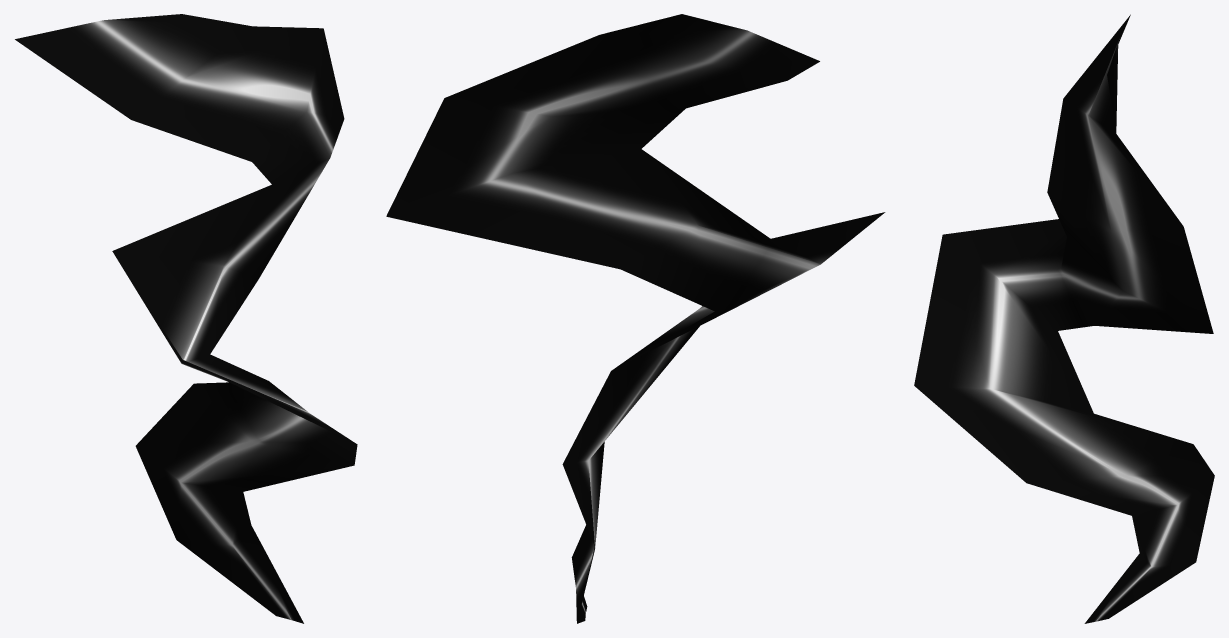
Rendered from LightningPlane03.fbx.
3 views of the same model, side by side, from view 1: azimuth 30°, elevation 25°; view 2: azimuth 150°, elevation 25°; view 3: azimuth 270°, elevation 25° (orthographic). The views are drawn at different scales.
Parts seen in each view (by area): view 1: LightningPlane03; view 2: LightningPlane03; view 3: LightningPlane03.
Boxes of the visible parts, <box> form: LightningPlane03: <box>15,14,357,623</box>; LightningPlane03: <box>386,14,885,623</box>; LightningPlane03: <box>914,14,1214,623</box>.
Size of the model in its own units: 253 by 401 by 214.
